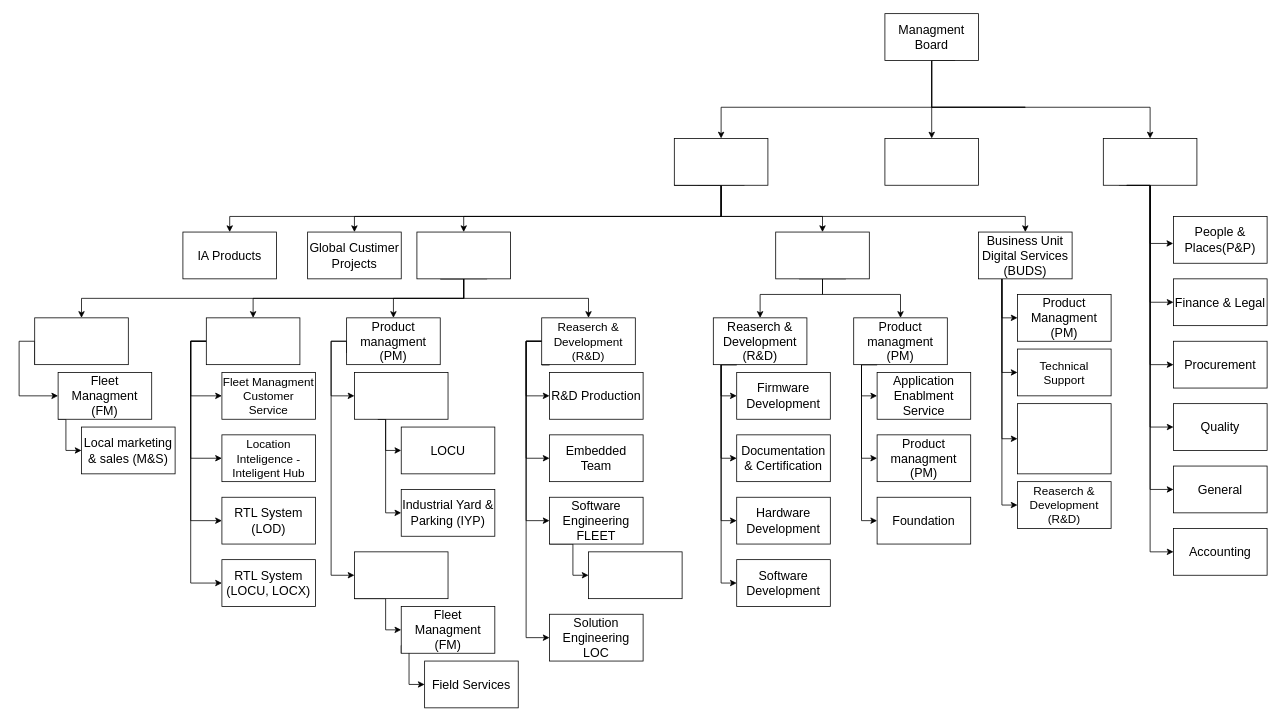
The diagram is 1281 pixels wide and 722 high, and some of its shapes have lost their labels. The shapes that lost their labels are listed below. From the top down, each one's box as (x1, y1, x2, y2) in pixels, then its label:
(674, 138, 768, 185): Business cluster integrated automation (BCIA)
(884, 138, 979, 185): Sales and service unit (SSU)
(1103, 138, 1197, 185): Local services
(416, 231, 511, 279): Business Unit Location Solutions (BULS)
(775, 231, 869, 279): Business unit integration products (BUIP)
(34, 317, 128, 365): Consulting
(206, 317, 300, 365): Strategic Product Managment (SPM)
(354, 372, 448, 419): Project Managment
(1017, 403, 1111, 474): Cloud & Operations for Customer Solutions (CloudOps)
(354, 551, 448, 599): Application Engineering
(588, 551, 682, 599): Mobile team
